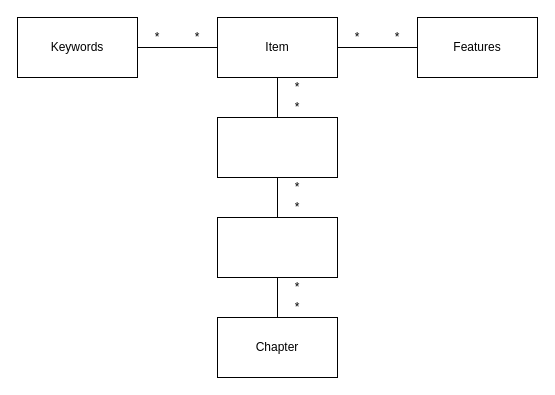
Image size: 555x395. Some labels were removed from this diagram. The shapes that lost their labels are listed below. From the top down, each one's centre as x and y in pixels, then its label:
pixel 277 147: Item Group
pixel 277 247: Product Group
